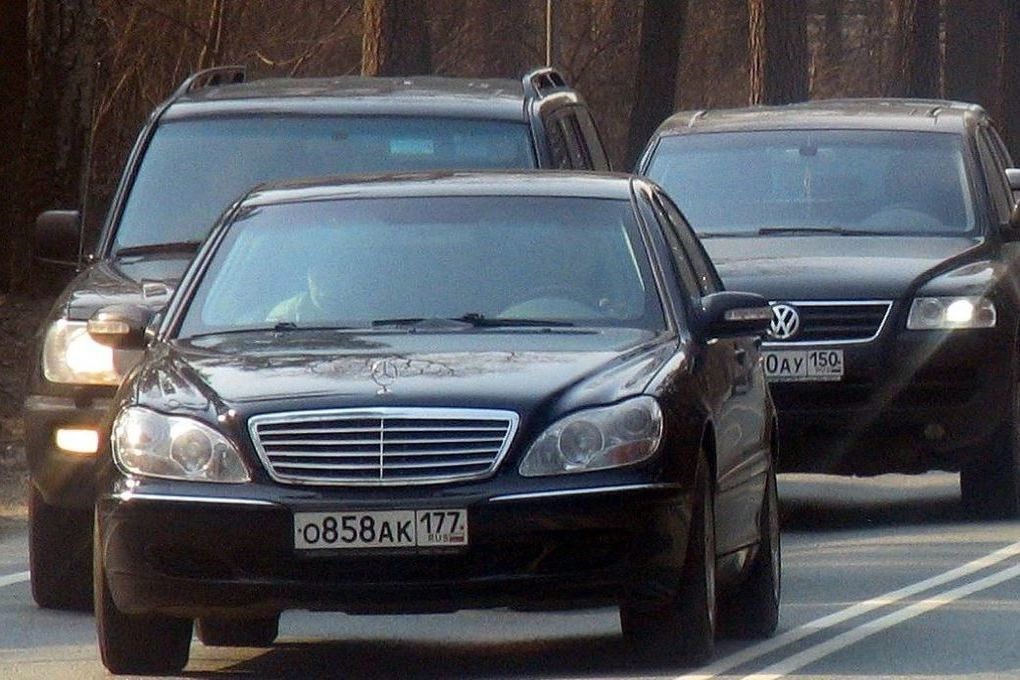number_plate: (293, 511, 474, 552)
